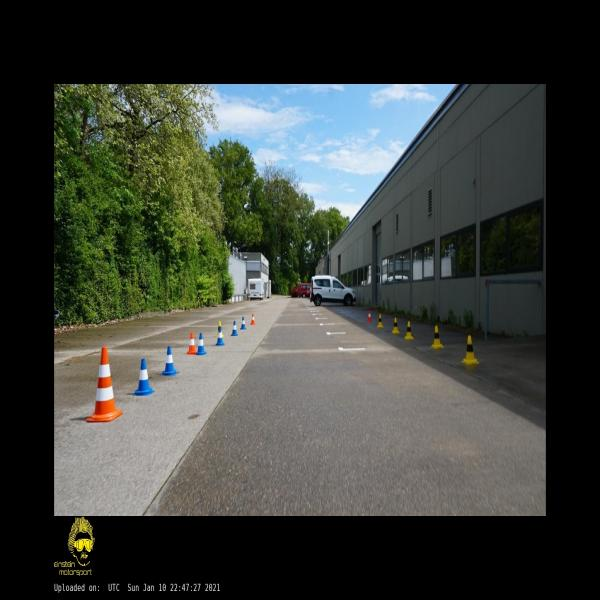blue_cone: (132, 359, 154, 396), (161, 346, 178, 376), (196, 333, 206, 355), (215, 326, 225, 346), (231, 320, 238, 336), (240, 317, 246, 329)
large_orange_cone: (86, 348, 122, 422)
orange_cone: (187, 332, 197, 354), (251, 313, 256, 325), (368, 311, 372, 322)
yellow_cone: (461, 335, 479, 364), (430, 326, 444, 348), (404, 320, 413, 340), (216, 321, 224, 338), (392, 318, 399, 334), (377, 314, 384, 329)
